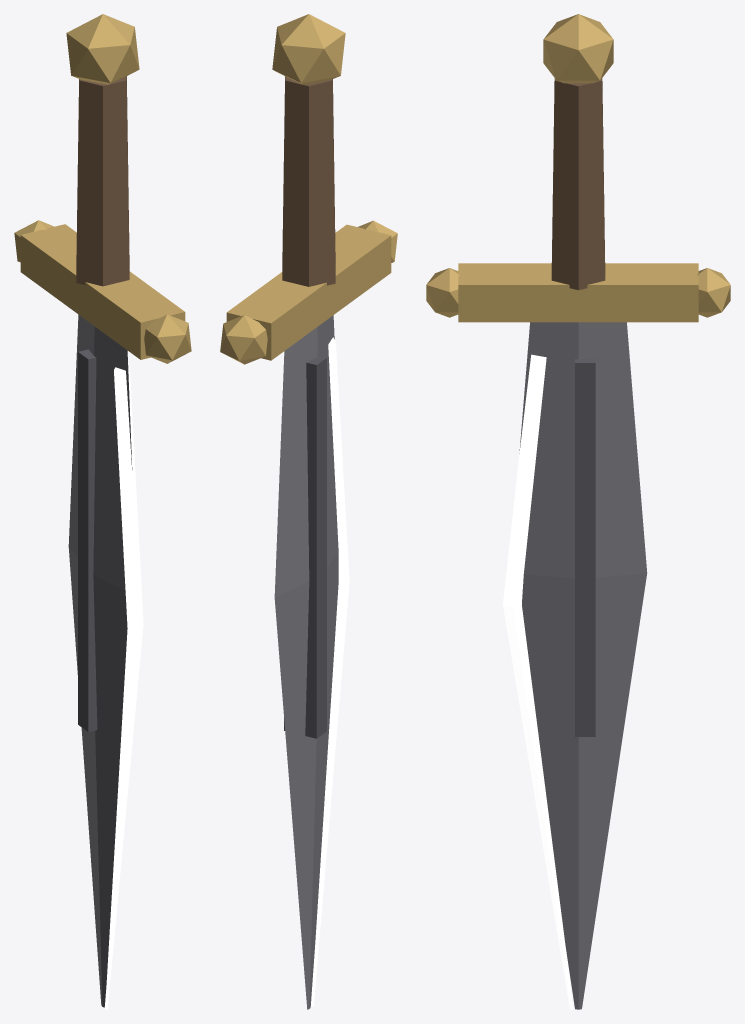
Rendered from blade-short-blade.glb.
3 views of the same model, side by side, from view 1: azimuth 30°, elevation 25°; view 2: azimuth 150°, elevation 25°; view 3: azimuth 270°, elevation 25° (orthographic).
Visible parts, largest first — view 1: short_blade; view 2: short_blade; view 3: short_blade.
Boxes of the visible parts, bbox=[...] form: short_blade: bbox=[14, 14, 191, 1009]; short_blade: bbox=[220, 14, 397, 1009]; short_blade: bbox=[426, 14, 730, 1009].
Bounding box in the file's own units: 0.0429 × 0.6391 × 0.1772.
